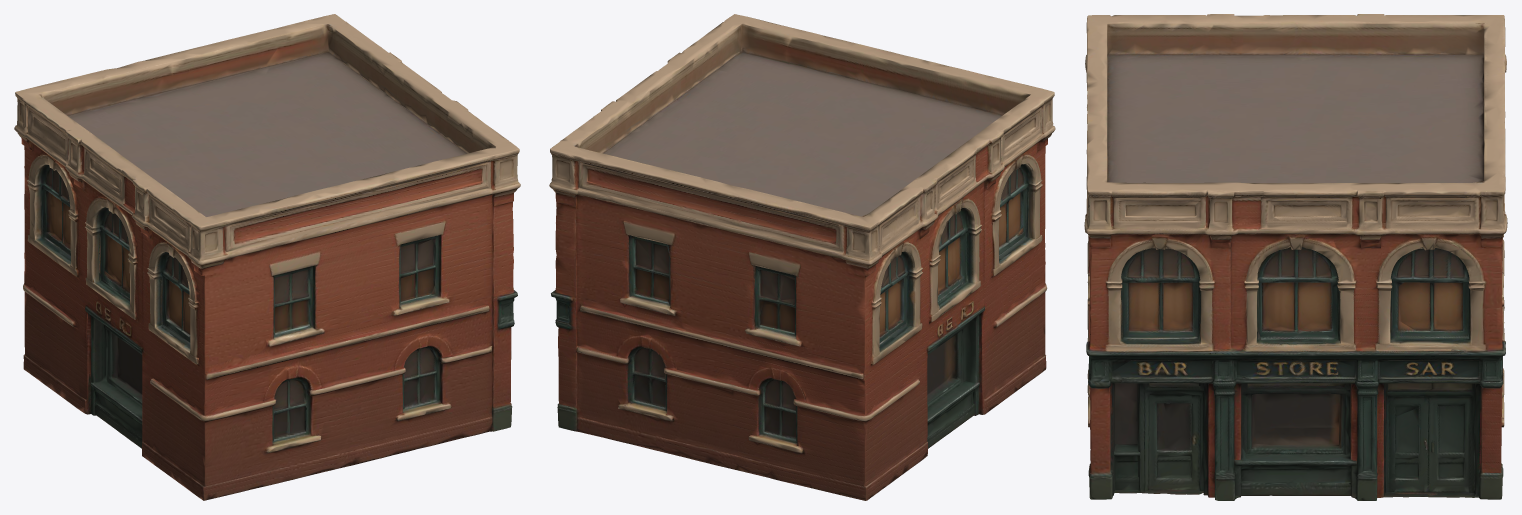
Rendered from building3d6.glb.
3 views of the same model, side by side, from view 1: azimuth 30°, elevation 25°; view 2: azimuth 150°, elevation 25°; view 3: azimuth 270°, elevation 25° (orthographic). The views are drawn at different scales.
Visible parts, largest first — view 1: tripo_node_39a2c13e-1fbc-4c25-9424-59333ea42d93; view 2: tripo_node_39a2c13e-1fbc-4c25-9424-59333ea42d93; view 3: tripo_node_39a2c13e-1fbc-4c25-9424-59333ea42d93.
Boxes of the visible parts, x1,y1,x2,y2 form: tripo_node_39a2c13e-1fbc-4c25-9424-59333ea42d93: (14,14,520,500); tripo_node_39a2c13e-1fbc-4c25-9424-59333ea42d93: (549,14,1055,500); tripo_node_39a2c13e-1fbc-4c25-9424-59333ea42d93: (1084,14,1507,500).
Size of the model in its own units: 1 by 0.8134 by 0.9971.
1 material, 1 textured.
